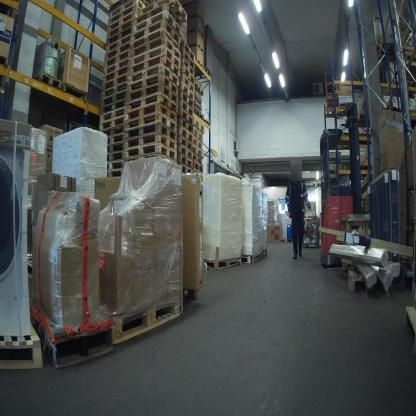forklift: (318, 93, 371, 275)
pallet: (108, 296, 190, 352), (36, 318, 112, 367), (344, 257, 410, 301), (1, 318, 44, 376), (129, 27, 181, 52), (131, 3, 184, 27), (122, 121, 178, 142), (133, 1, 188, 22), (133, 38, 181, 62), (124, 61, 180, 81), (125, 72, 178, 93), (123, 93, 178, 113), (119, 111, 176, 130), (123, 141, 179, 160), (126, 45, 179, 65), (132, 23, 179, 44), (175, 284, 210, 312), (128, 54, 178, 73), (118, 104, 176, 120), (123, 86, 178, 101), (134, 12, 180, 29), (403, 299, 415, 363), (134, 20, 182, 36), (125, 135, 176, 150), (205, 251, 245, 270), (30, 69, 61, 93), (105, 32, 137, 52), (106, 4, 135, 25), (104, 40, 134, 60), (100, 66, 130, 84), (102, 57, 133, 74), (101, 73, 130, 91), (241, 243, 267, 263), (106, 20, 132, 39), (105, 28, 131, 46), (101, 82, 130, 98), (99, 100, 128, 116), (106, 13, 131, 31), (100, 90, 130, 105), (99, 107, 129, 122), (104, 49, 131, 65), (110, 1, 133, 19), (335, 102, 355, 122), (325, 97, 340, 122), (102, 125, 128, 139), (176, 124, 195, 143), (178, 155, 197, 174), (99, 116, 129, 128), (109, 0, 134, 13), (178, 92, 196, 109), (181, 50, 196, 70), (176, 100, 194, 116), (178, 117, 195, 133), (198, 64, 213, 82), (178, 109, 194, 125), (177, 143, 192, 160), (0, 54, 14, 72), (181, 41, 195, 59), (108, 134, 129, 146), (106, 142, 128, 153), (179, 83, 194, 99), (179, 68, 196, 82), (177, 164, 195, 177), (108, 152, 127, 164), (180, 75, 195, 90), (180, 60, 195, 74), (179, 136, 192, 152), (191, 137, 204, 152), (106, 162, 129, 170), (193, 127, 204, 142), (104, 171, 125, 178), (195, 59, 204, 75), (194, 84, 206, 95), (194, 109, 205, 120), (191, 148, 203, 158), (194, 121, 204, 132), (194, 165, 206, 174), (194, 156, 204, 166), (203, 118, 209, 127)
stillage: (301, 209, 322, 254)
